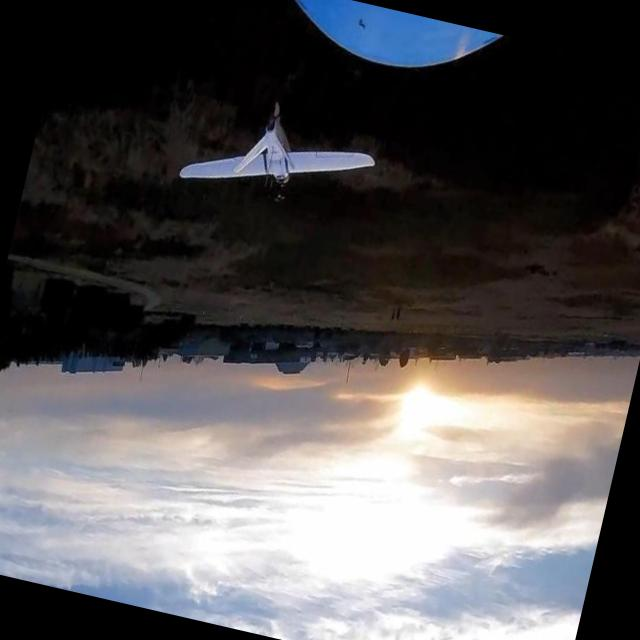UAV: (164, 80, 400, 222)
